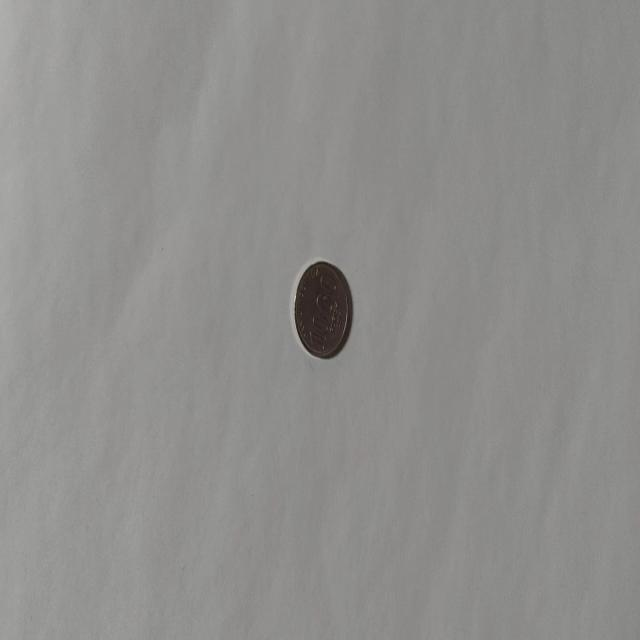seribu rupiah koin: (292, 258, 351, 360)
